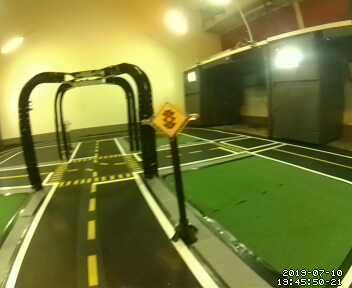Traffic light sign: (151, 101, 188, 139)
